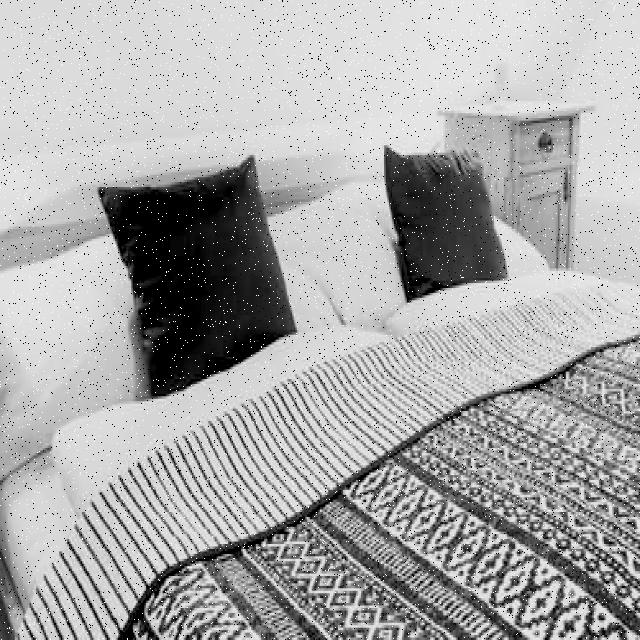bed: (2, 143, 640, 640)
